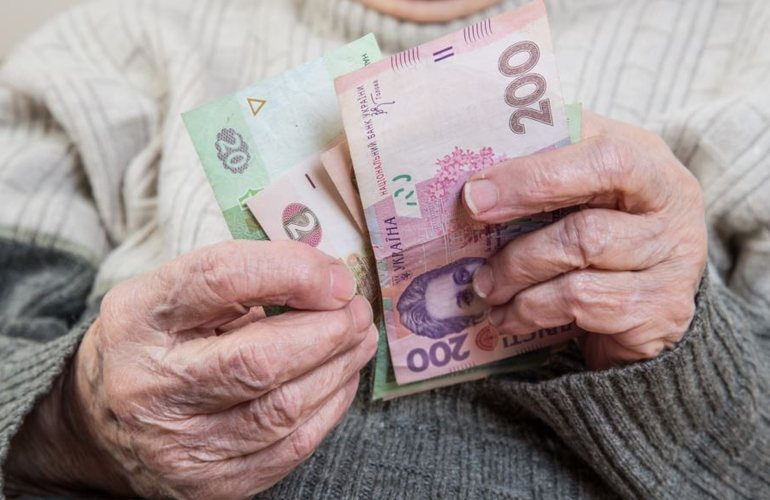bn_2: (246, 166, 438, 314)
bn_20: (179, 60, 443, 209)
bn_200: (333, 40, 665, 378)
